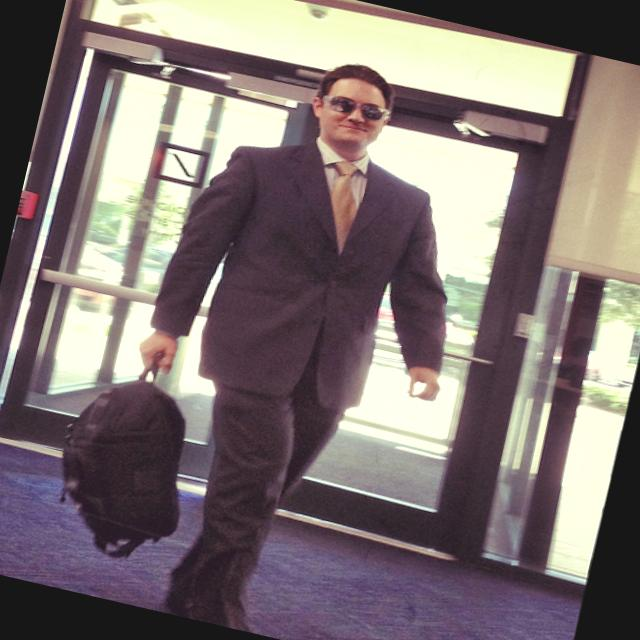Vehicle: (0, 197, 136, 317), (530, 347, 604, 386), (134, 247, 174, 296), (596, 378, 620, 388)
